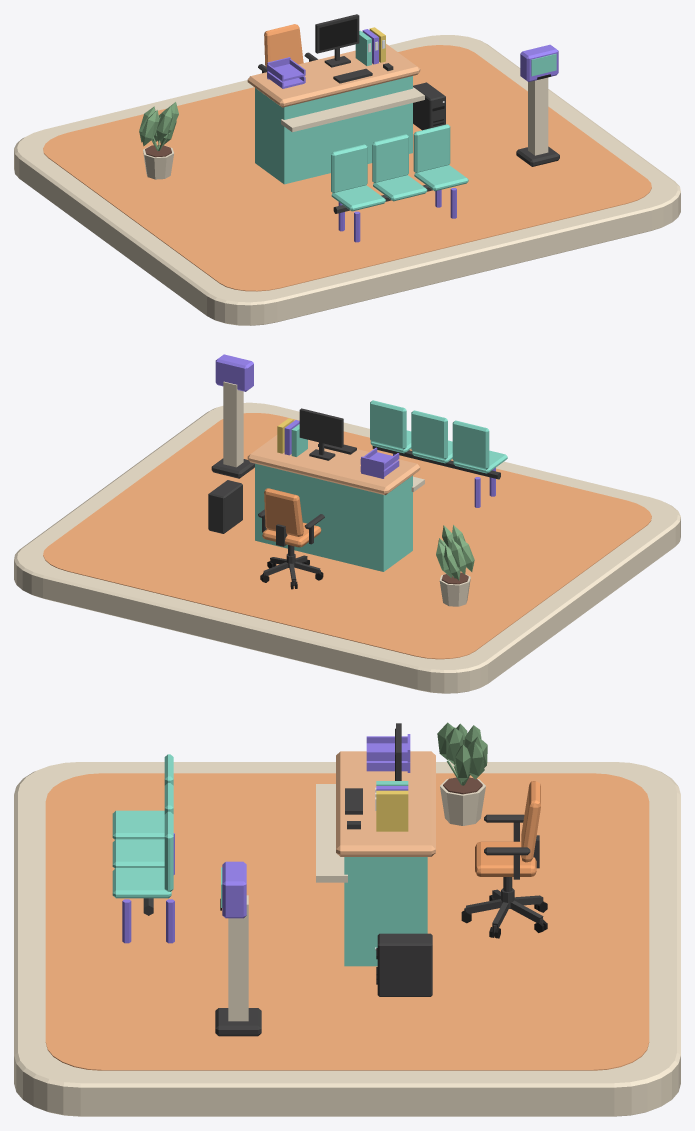
File: room.fbx
3 views of the same model, one above another, from view 1: azimuth 30°, elevation 25°; view 2: azimuth 150°, elevation 25°; view 3: azimuth 270°, elevation 25° (orthographic). The views are drawn at different scales.
Visible parts, largest first — view 1: COM-02 Floor Surface, COM-01 Rounded Base Direct, Counter body, Countertop, Pot, Visitor shelf, Frame, Back.002, Pedestal, Back.001, Back, COM-04_Chair_blender_direct (+6 smaller); view 2: COM-02 Floor Surface, COM-01 Rounded Base Direct, Counter body, Countertop, COM-04_Chair_blender_direct, Pot, Pedestal, Frame, Back, Tower, Back.001, Back.002 (+3 smaller); view 3: COM-02 Floor Surface, COM-01 Rounded Base Direct, Counter body, Countertop, COM-04_Chair_blender_direct, Pot, Tower, Pedestal, Visitor shelf, Seat.002, Seat, Seat.001 (+4 smaller).
Boxes of the visible parts, x1,y1,x2,y2 form: COM-02 Floor Surface: [43, 45, 651, 291]; COM-01 Rounded Base Direct: [14, 35, 680, 325]; Counter body: [255, 76, 412, 184]; Countertop: [247, 44, 420, 107]; Pot: [139, 102, 178, 179]; Visitor shelf: [281, 87, 424, 132]; Frame: [315, 14, 359, 67]; Back.002: [413, 124, 450, 172]; Pedestal: [528, 77, 548, 155]; Back.001: [372, 134, 408, 182]; Back: [331, 144, 367, 192]; COM-04_Chair_blender_direct: [258, 24, 317, 73]; COM-02 Floor Surface: [43, 413, 651, 659]; COM-01 Rounded Base Direct: [14, 402, 680, 693]; Counter body: [255, 463, 412, 571]; Countertop: [247, 435, 420, 495]; COM-04_Chair_blender_direct: [258, 488, 324, 589]; Pot: [436, 525, 474, 606]; Pedestal: [223, 381, 243, 467]; Frame: [299, 408, 343, 460]; Back: [452, 420, 489, 469]; Tower: [208, 480, 242, 533]; Back.001: [411, 410, 447, 459]; Back.002: [370, 400, 406, 449]; COM-02 Floor Surface: [45, 773, 649, 1070]; COM-01 Rounded Base Direct: [14, 762, 680, 1116]; Counter body: [344, 857, 427, 966]; Countertop: [336, 751, 435, 856]; COM-04_Chair_blender_direct: [461, 781, 547, 938]; Pot: [437, 722, 487, 825]; Tower: [377, 933, 432, 996]; Pedestal: [228, 895, 248, 1021]; Visitor shelf: [316, 784, 347, 882]; Seat.002: [112, 868, 171, 898]; Seat: [112, 810, 164, 839]; Seat.001: [112, 839, 164, 868].
Bounding box in the file's own units: 600 × 192 × 520.
